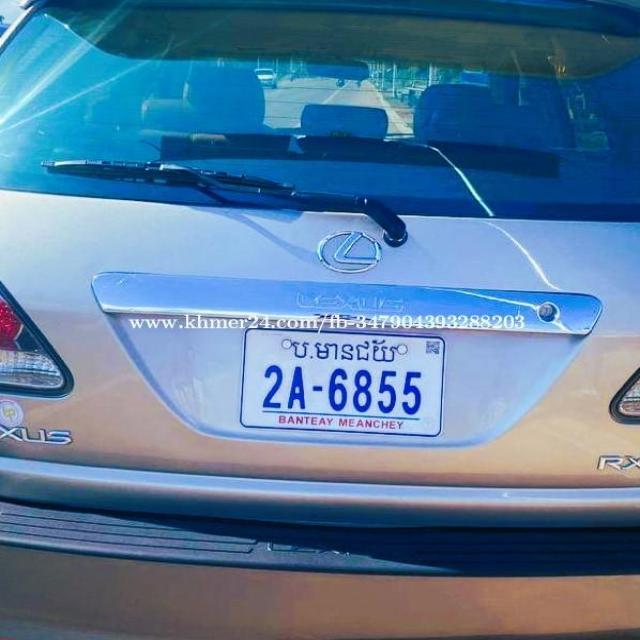Banteay_Meanchey: (292, 337, 396, 362)
